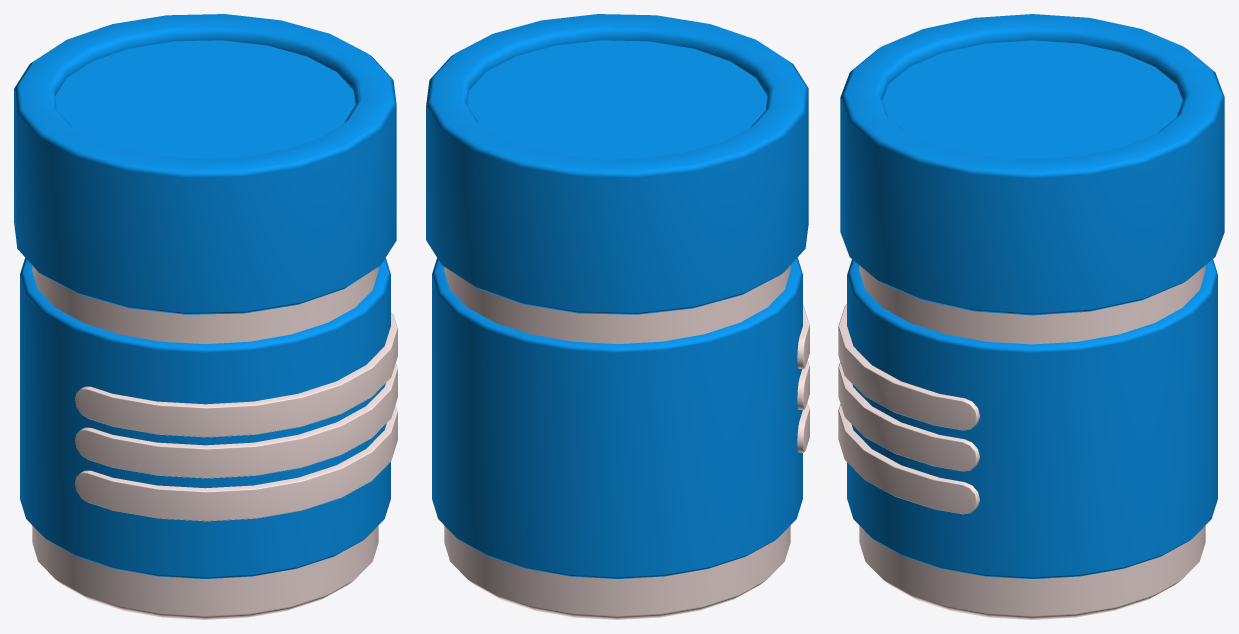
The model's file is Store_15_Bottle_of_Medicine_4.glb.
The picture shows the model from 3 angles, left to right: view 1: azimuth 30°, elevation 25°; view 2: azimuth 150°, elevation 25°; view 3: azimuth 270°, elevation 25°; orthographic projection.
Visible parts, largest first — view 1: Store_15_Bottle_of_Medicine_4; view 2: Store_15_Bottle_of_Medicine_4; view 3: Store_15_Bottle_of_Medicine_4.
Part boxes in pixels (x1,y1,x2,y2): Store_15_Bottle_of_Medicine_4: (14, 14, 397, 619); Store_15_Bottle_of_Medicine_4: (426, 14, 809, 619); Store_15_Bottle_of_Medicine_4: (838, 14, 1224, 619).
Bounding box in the file's own units: 1.74 × 2.28 × 1.75.
1 material, 1 textured.
